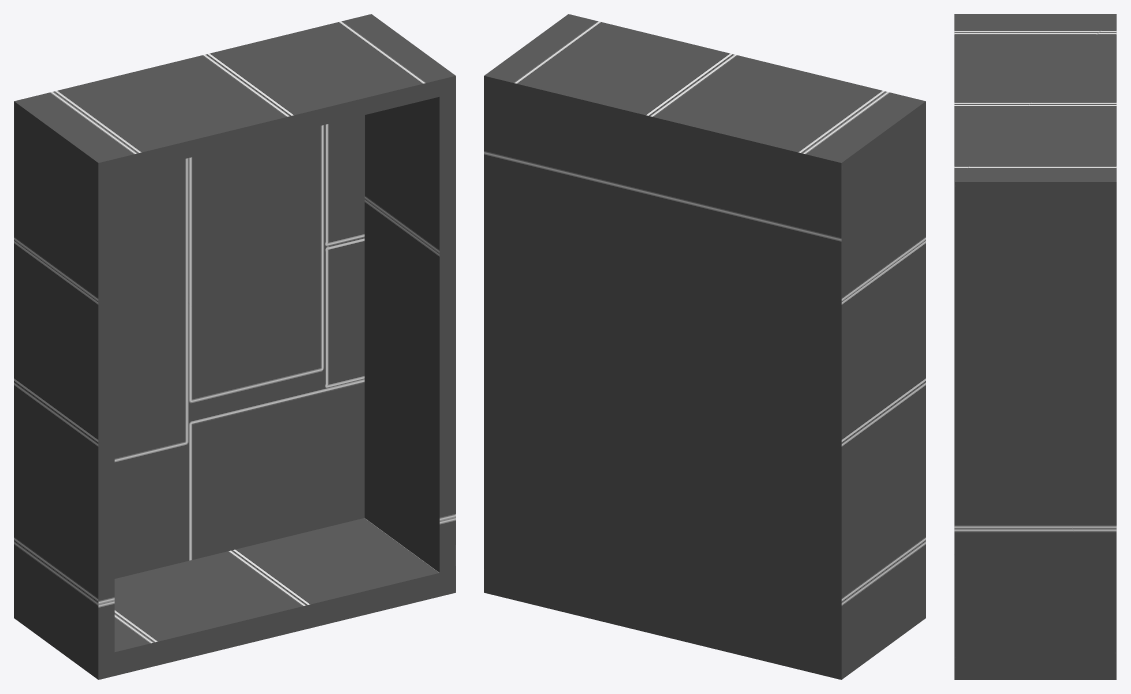
The model's file is utlityCupboard_02_cupboard.glb.
3 views of the same model, side by side, from view 1: azimuth 30°, elevation 25°; view 2: azimuth 150°, elevation 25°; view 3: azimuth 270°, elevation 25° (orthographic). The views are drawn at different scales.
Visible parts, largest first — view 1: cupboard; view 2: cupboard; view 3: cupboard.
Boxes of the visible parts, x1,y1,x2,y2 form: cupboard: [14, 14, 455, 679]; cupboard: [484, 14, 925, 679]; cupboard: [954, 14, 1116, 679].
Bounding box in the file's own units: 2.2 × 3.04 × 0.9.
Materials: 1 (1 with a texture image).
